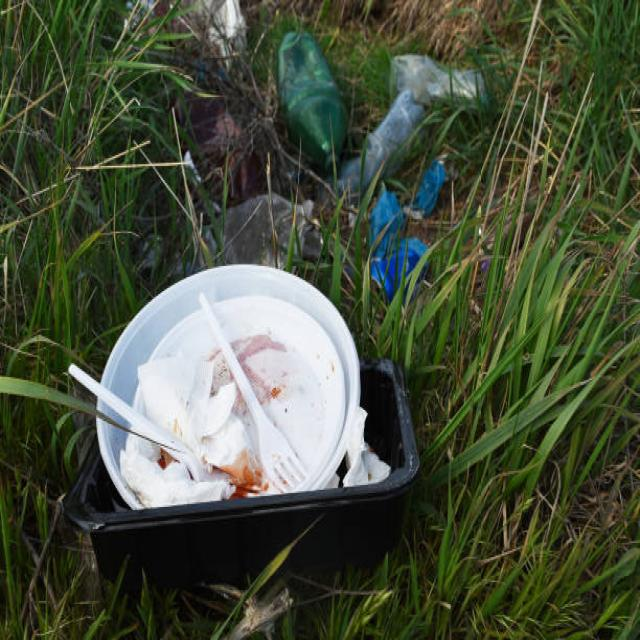plastic: (61, 260, 428, 601), (284, 31, 494, 216)
